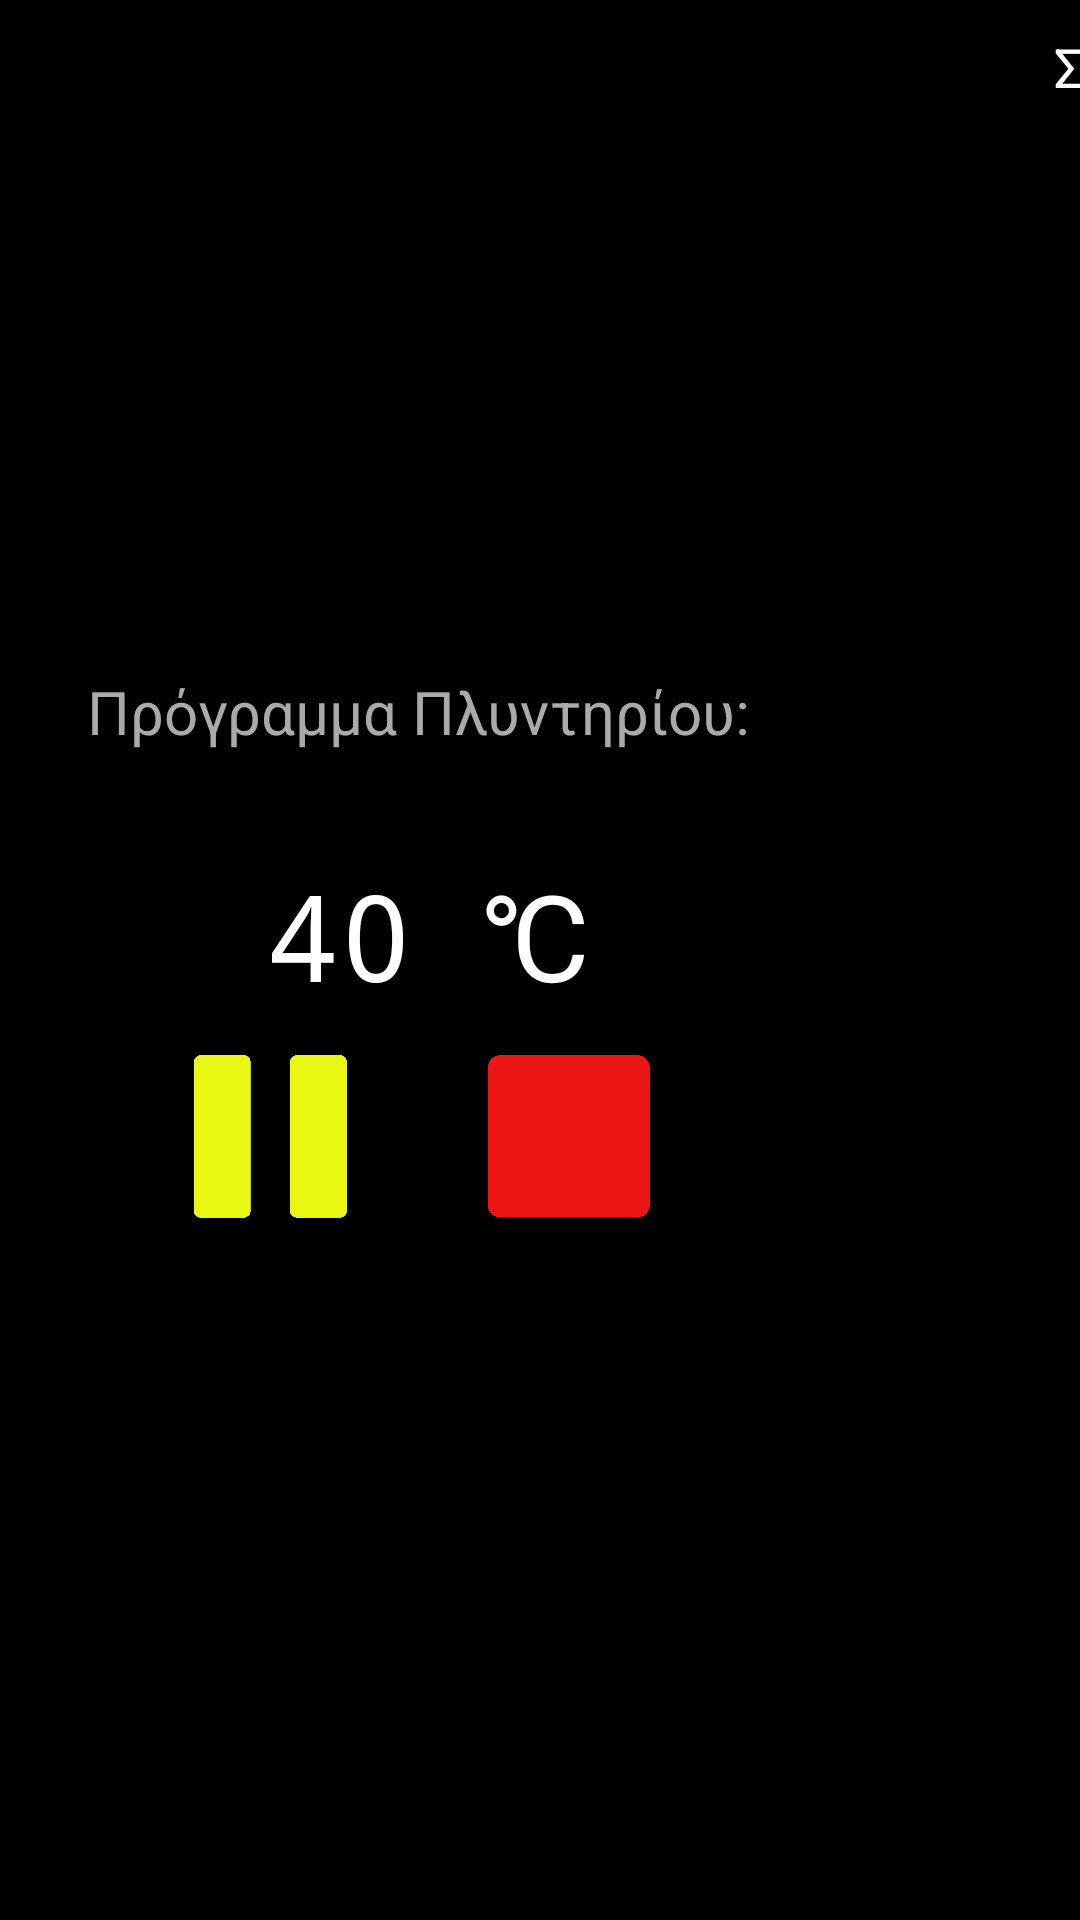

Icons on this 1080px×1920px Android screen, each with the point to tap as (x,y):
pause: (270,1136)
stop: (569,1136)
